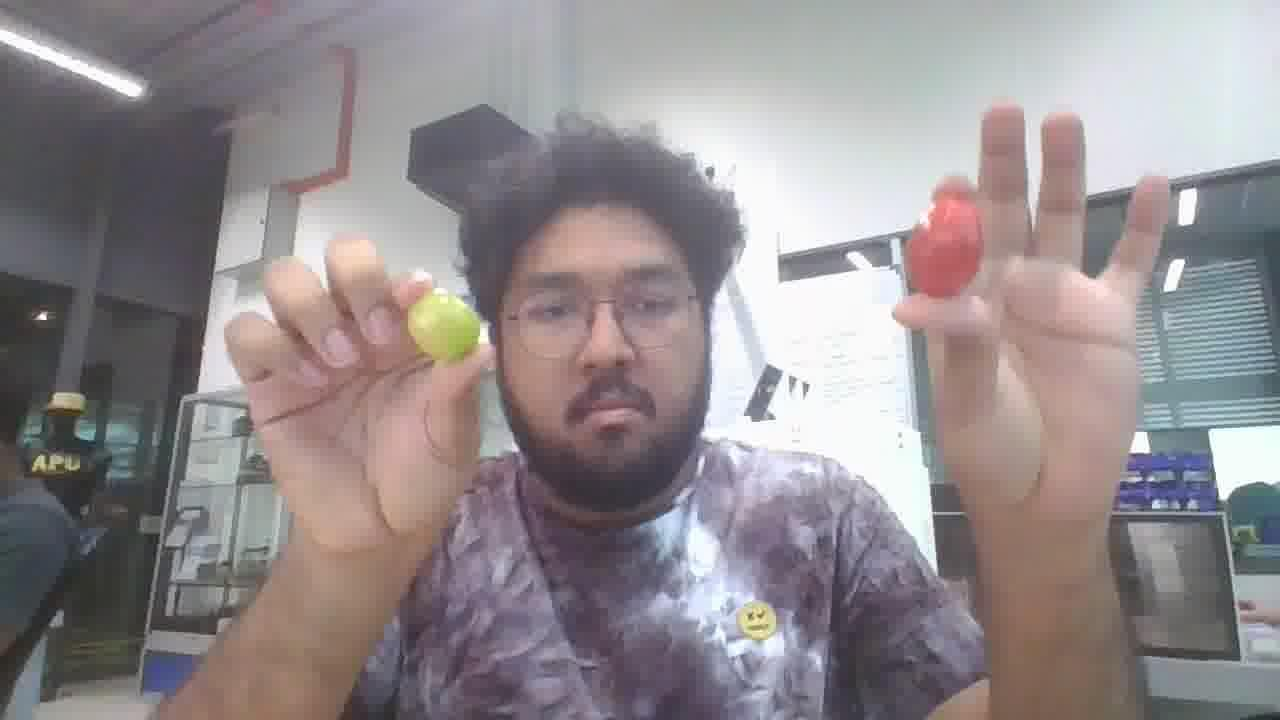green_cherry_tomato: (407, 289, 481, 363)
red_cherry_tomato: (904, 192, 984, 298)
